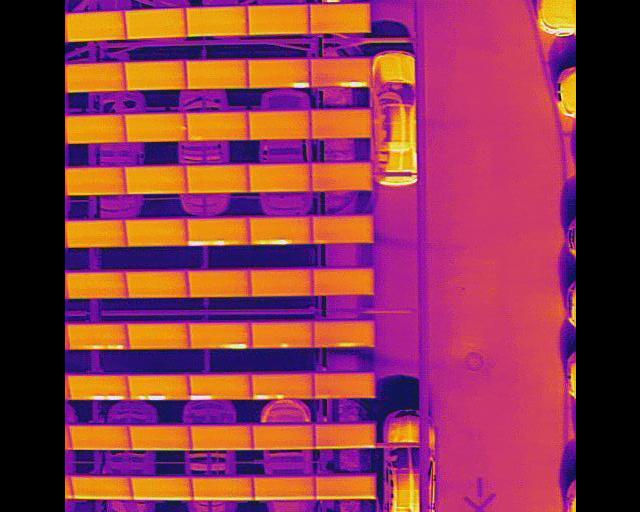Cell: (250, 323, 313, 348)
No-Anomaly: (64, 12, 126, 42), (185, 7, 247, 37), (125, 9, 186, 39), (309, 4, 370, 34), (246, 5, 309, 34), (124, 62, 186, 91), (311, 110, 373, 139), (64, 63, 124, 92), (248, 165, 310, 193), (310, 164, 372, 192), (312, 269, 374, 297), (64, 116, 125, 144), (64, 168, 125, 196), (125, 114, 186, 142), (186, 61, 247, 89), (124, 220, 187, 247), (185, 166, 248, 193), (248, 113, 311, 140), (311, 217, 374, 244), (64, 221, 126, 248), (186, 113, 248, 140), (250, 270, 312, 297), (124, 168, 185, 195), (64, 272, 126, 298), (126, 272, 188, 298), (188, 271, 249, 297), (126, 325, 189, 350), (313, 373, 375, 398), (68, 477, 132, 501), (314, 475, 375, 500), (67, 426, 130, 450), (128, 426, 191, 450), (188, 427, 253, 450), (253, 476, 315, 500), (313, 425, 375, 449), (130, 478, 192, 501), (191, 478, 253, 501), (251, 427, 313, 450)
Unclassified: (247, 60, 309, 89), (309, 60, 371, 88), (186, 219, 249, 246), (189, 324, 251, 351), (249, 218, 311, 245), (252, 373, 313, 400), (313, 321, 374, 348), (66, 375, 129, 401), (126, 375, 189, 401), (190, 375, 252, 401), (65, 326, 129, 351)
